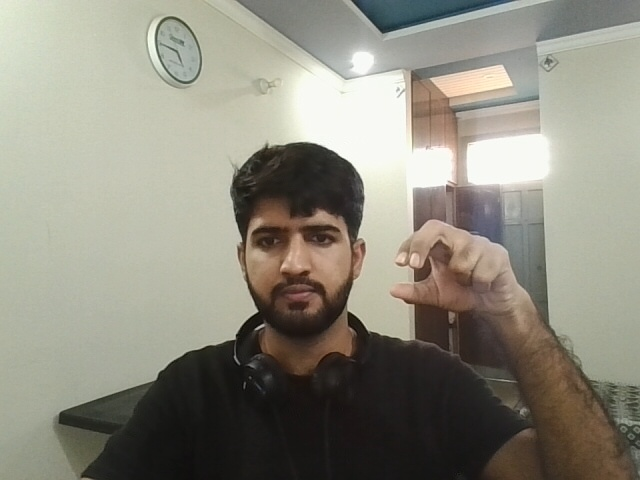No: (379, 205, 546, 333)
